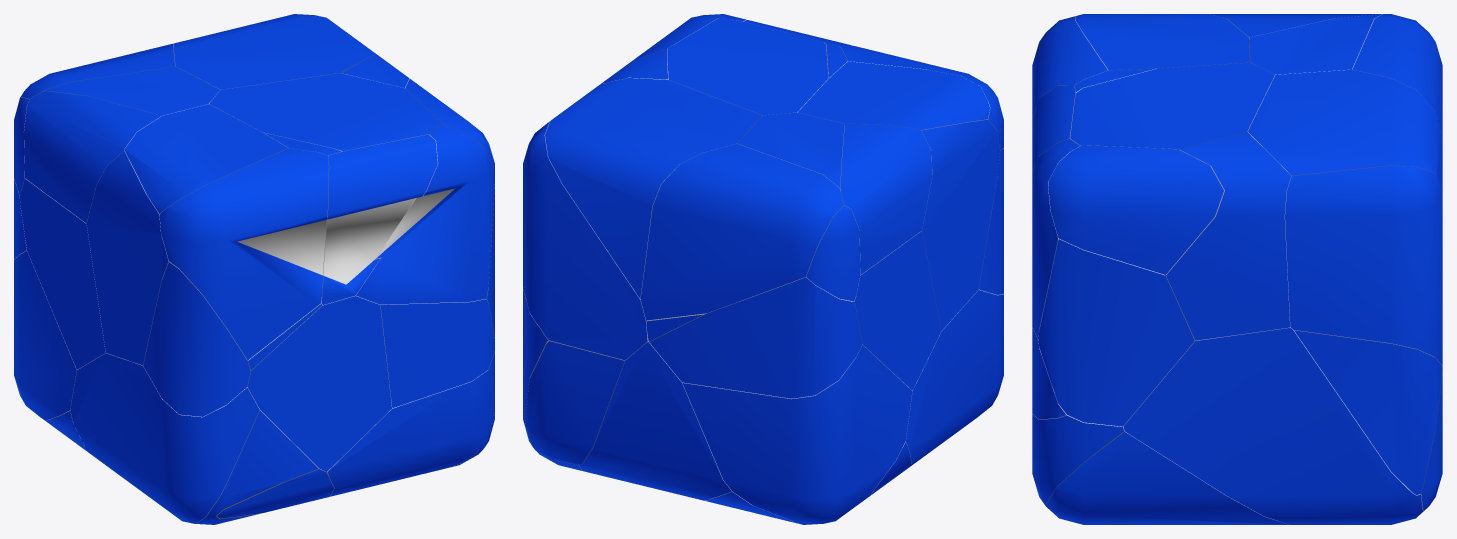
Rendered from BeatSaberBox_Fracture.fbx.
The picture shows the model from 3 angles, left to right: view 1: azimuth 30°, elevation 25°; view 2: azimuth 150°, elevation 25°; view 3: azimuth 270°, elevation 25°; orthographic projection. The views are drawn at different scales.
Parts seen in each view (by area): view 1: Cube_cell.004, Cube_cell.033, Cube_cell.020, Cube_cell.010, Cube_cell.001, Cube_cell.034, Cube_cell.042, Cube_cell.019, Cube_cell.031, Cube_cell.023, Cube_cell.041, Cube_cell.027 (+15 smaller); view 2: Cube_cell.025, Cube_cell.011, Cube_cell.041, Cube_cell.009, Cube_cell.014, Cube_cell.003, Cube_cell.042, Cube_cell.001, Cube_cell.033, Cube_cell.023, Cube_cell.007, Cube_cell.022 (+9 smaller); view 3: Cube_cell.032, Cube_cell.014, Cube_cell.030, Cube_cell.037, Cube_cell.008, Cube_cell.041, Cube_cell.001, Cube_cell.012, Cube_cell.006, Cube_cell.007, Cube_cell.035, Cube_cell.025 (+8 smaller).
Part boxes in pixels (left/top/right/bottom): Cube_cell.004: left=159, top=148, right=328, bottom=360; Cube_cell.033: left=70, top=353, right=259, bottom=523; Cube_cell.020: left=247, top=295, right=391, bottom=471; Cube_cell.010: left=356, top=124, right=494, bottom=304; Cube_cell.001: left=209, top=73, right=441, bottom=151; Cube_cell.034: left=321, top=134, right=437, bottom=304; Cube_cell.042: left=86, top=151, right=168, bottom=365; Cube_cell.019: left=326, top=351, right=494, bottom=496; Cube_cell.031: left=143, top=262, right=250, bottom=416; Cube_cell.023: left=24, top=91, right=161, bottom=223; Cube_cell.041: left=173, top=14, right=376, bottom=89; Cube_cell.027: left=380, top=299, right=494, bottom=408; Cube_cell.025: left=640, top=144, right=843, bottom=320; Cube_cell.011: left=682, top=345, right=912, bottom=524; Cube_cell.041: left=545, top=78, right=761, bottom=298; Cube_cell.009: left=649, top=277, right=862, bottom=398; Cube_cell.014: left=523, top=120, right=648, bottom=360; Cube_cell.003: left=579, top=340, right=731, bottom=500; Cube_cell.042: left=921, top=119, right=999, bottom=330; Cube_cell.001: left=667, top=18, right=828, bottom=115; Cube_cell.033: left=905, top=289, right=1003, bottom=469; Cube_cell.023: left=840, top=123, right=932, bottom=274; Cube_cell.007: left=798, top=61, right=989, bottom=130; Cube_cell.022: left=853, top=231, right=941, bottom=390; Cube_cell.032: left=1123, top=327, right=1423, bottom=524; Cube_cell.014: left=1285, top=165, right=1442, bottom=366; Cube_cell.030: left=1038, top=239, right=1194, bottom=426; Cube_cell.037: left=1165, top=132, right=1291, bottom=340; Cube_cell.008: left=1048, top=145, right=1223, bottom=274; Cube_cell.041: left=1248, top=69, right=1442, bottom=186; Cube_cell.001: left=1070, top=62, right=1274, bottom=149; Cube_cell.012: left=1294, top=330, right=1442, bottom=494; Cube_cell.006: left=1045, top=431, right=1289, bottom=524; Cube_cell.007: left=1075, top=14, right=1249, bottom=70; Cube_cell.035: left=1249, top=14, right=1382, bottom=74; Cube_cell.025: left=1352, top=14, right=1442, bottom=138.
Size of the model in its own units: 200 by 200 by 200.
